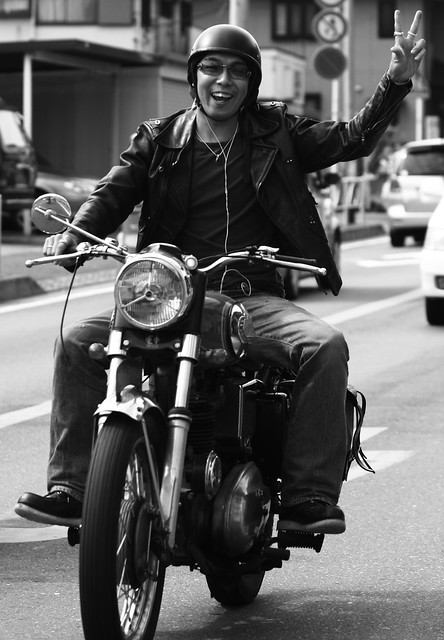helmet: (188, 22, 259, 72)
